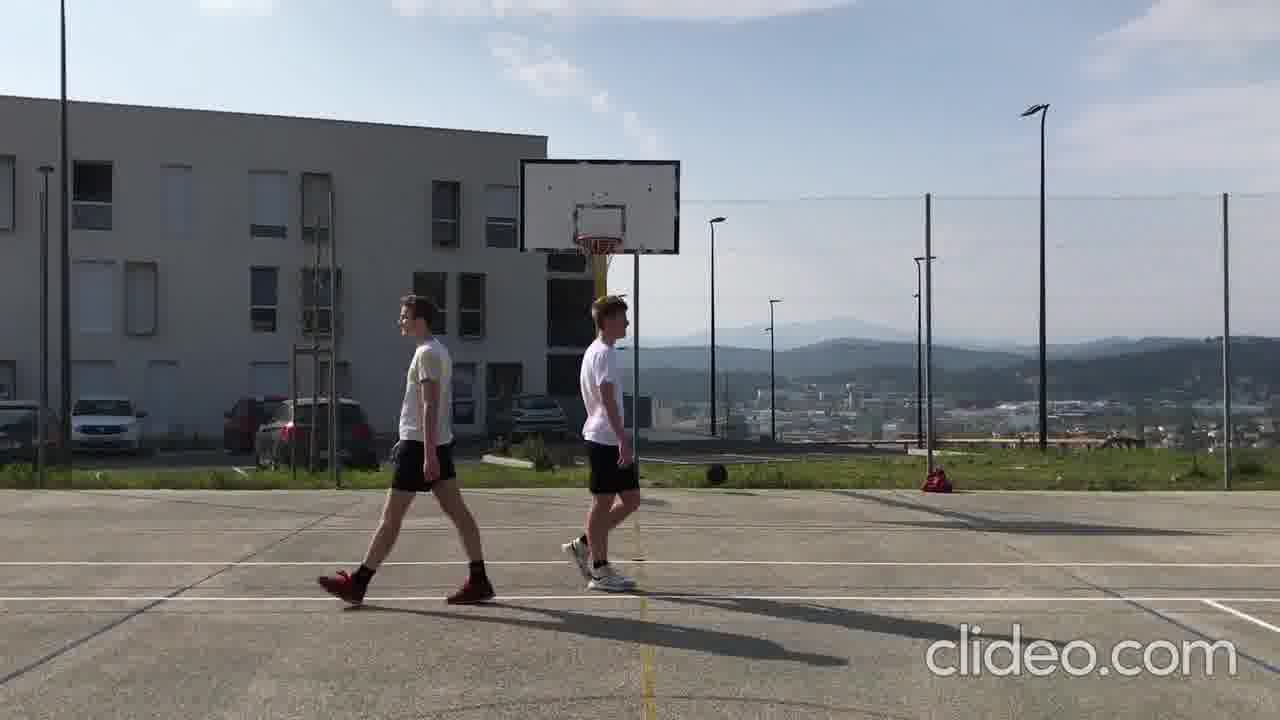jugador: (308, 281, 507, 617)
